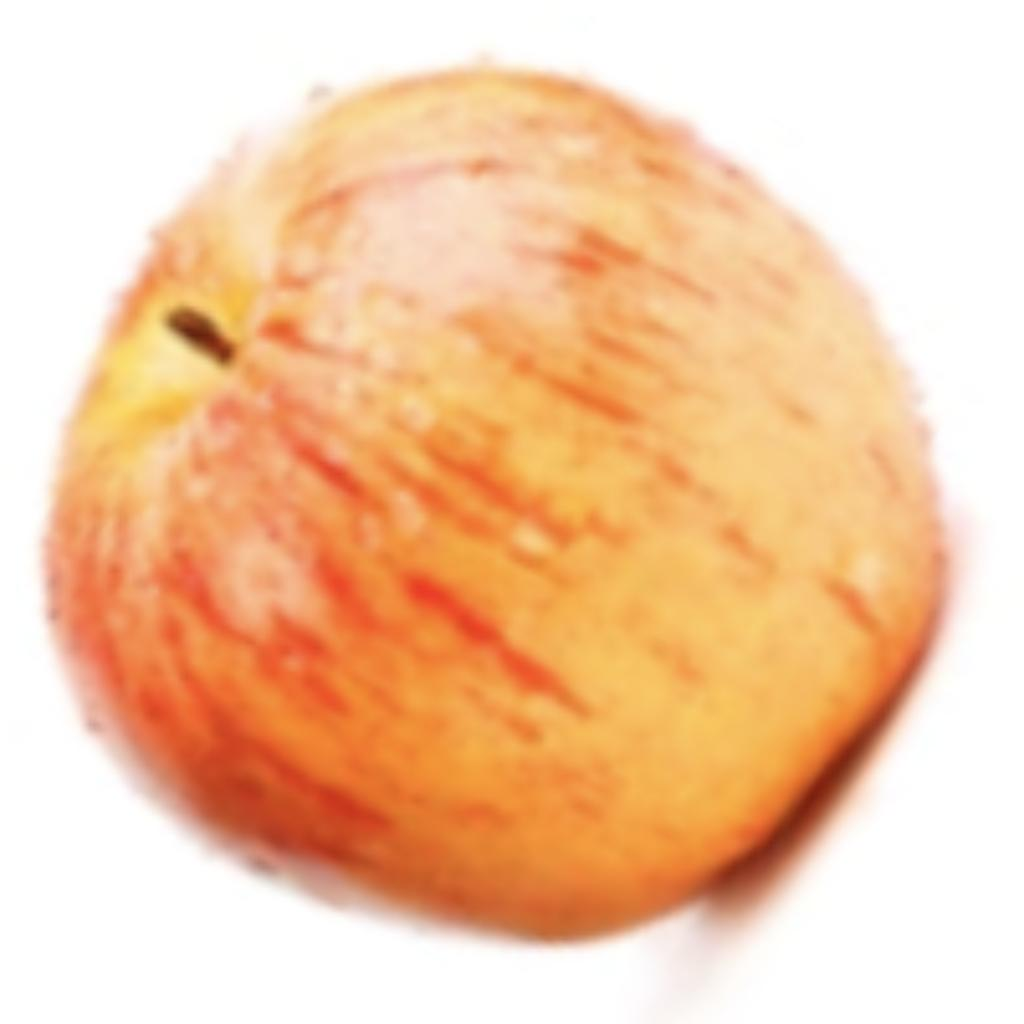apple: (20, 41, 993, 1019)
